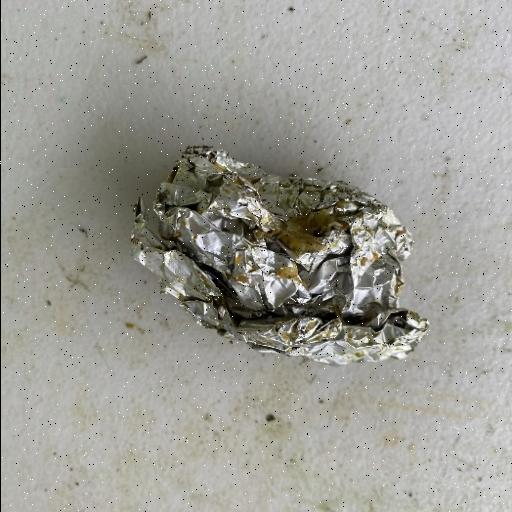Metal: (128, 143, 431, 367)
